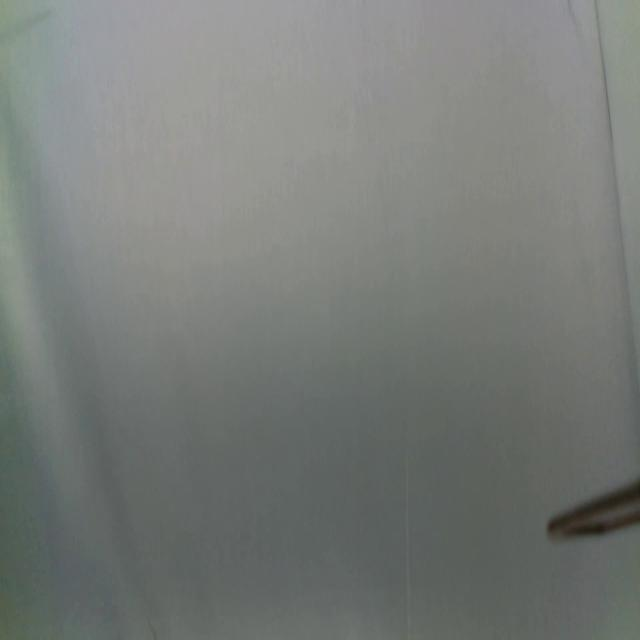crease: (593, 0, 639, 378), (402, 447, 412, 640)
